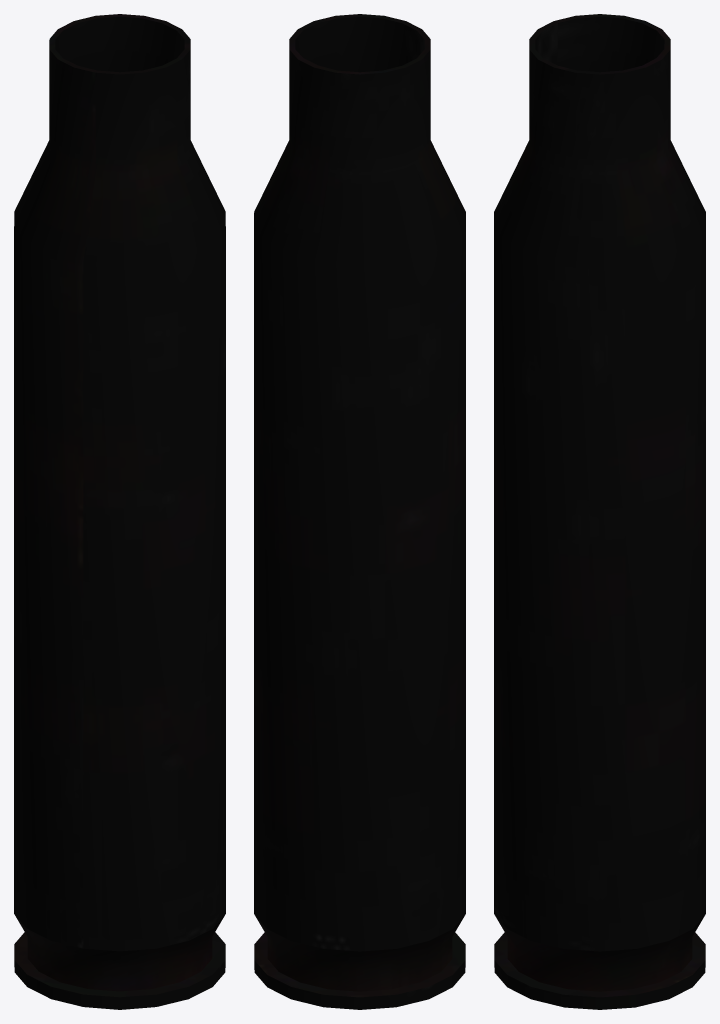
File: 556_explosive_casing.glb
3 views of the same model, side by side, from view 1: azimuth 30°, elevation 25°; view 2: azimuth 150°, elevation 25°; view 3: azimuth 270°, elevation 25° (orthographic).
Visible parts, largest first — view 1: 556_explosive_casing; view 2: 556_explosive_casing; view 3: 556_explosive_casing.
Part boxes in pixels (<box>): 556_explosive_casing: <box>14,14,225,1009</box>; 556_explosive_casing: <box>254,14,465,1009</box>; 556_explosive_casing: <box>494,14,705,1009</box>.
Bounding box in the file's own units: 0.0156 × 0.0738 × 0.0154.
1 material, 1 textured.
